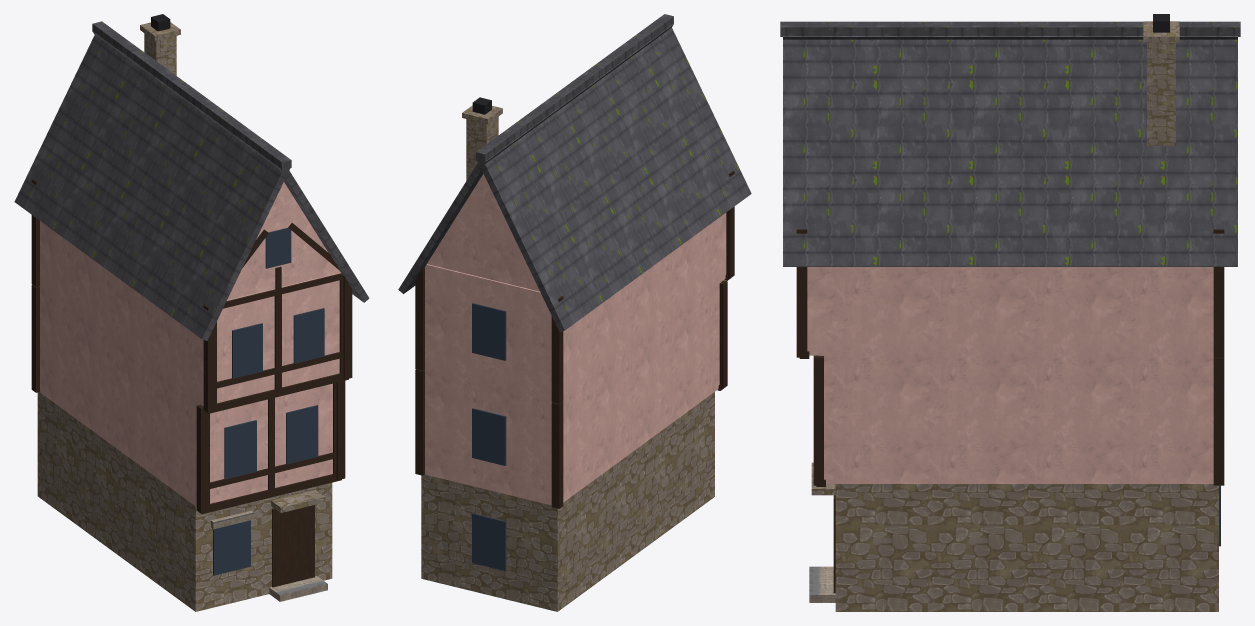
The model's file is narrow_house.glb.
The picture shows the model from 3 angles, left to right: view 1: azimuth 30°, elevation 25°; view 2: azimuth 150°, elevation 25°; view 3: azimuth 270°, elevation 25°; orthographic projection. The views are drawn at different scales.
Visible parts, largest first — view 1: narrow_house; view 2: narrow_house; view 3: narrow_house.
Part boxes in pixels (box(x1,y1,x2,y2)): narrow_house: box(14, 14, 369, 611); narrow_house: box(398, 14, 751, 611); narrow_house: box(780, 14, 1240, 611).
Size of the model in its own units: 4.9 by 13.17 by 9.6.
7 materials, 5 textured.
